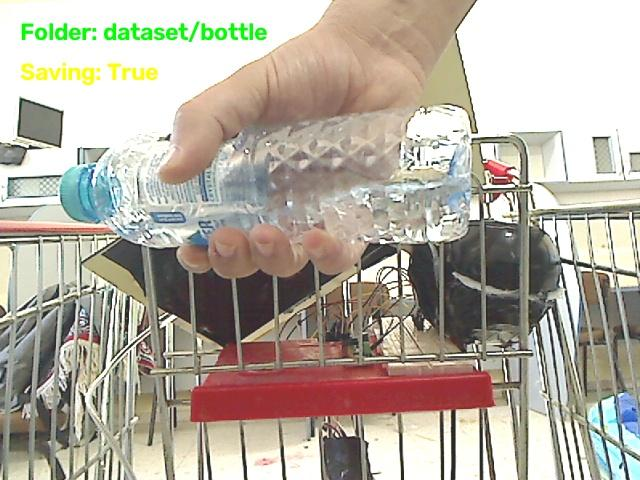Bottle: (60, 105, 469, 247)
